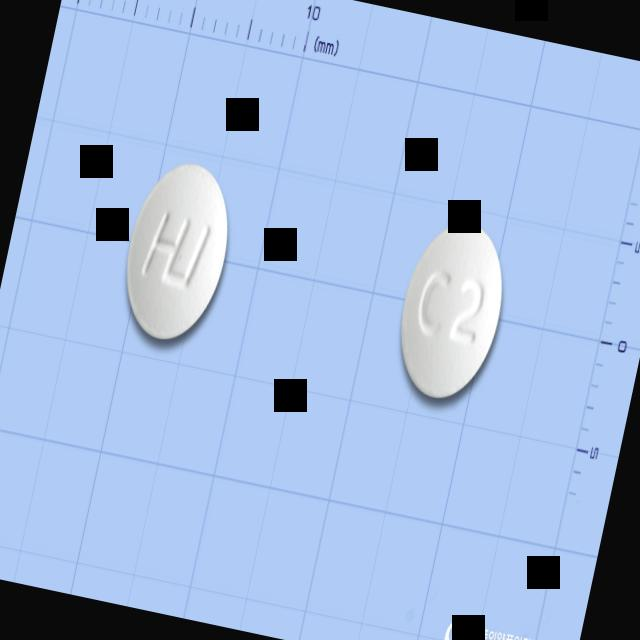Huloxacin: (111, 153, 244, 350), (385, 212, 517, 407)
